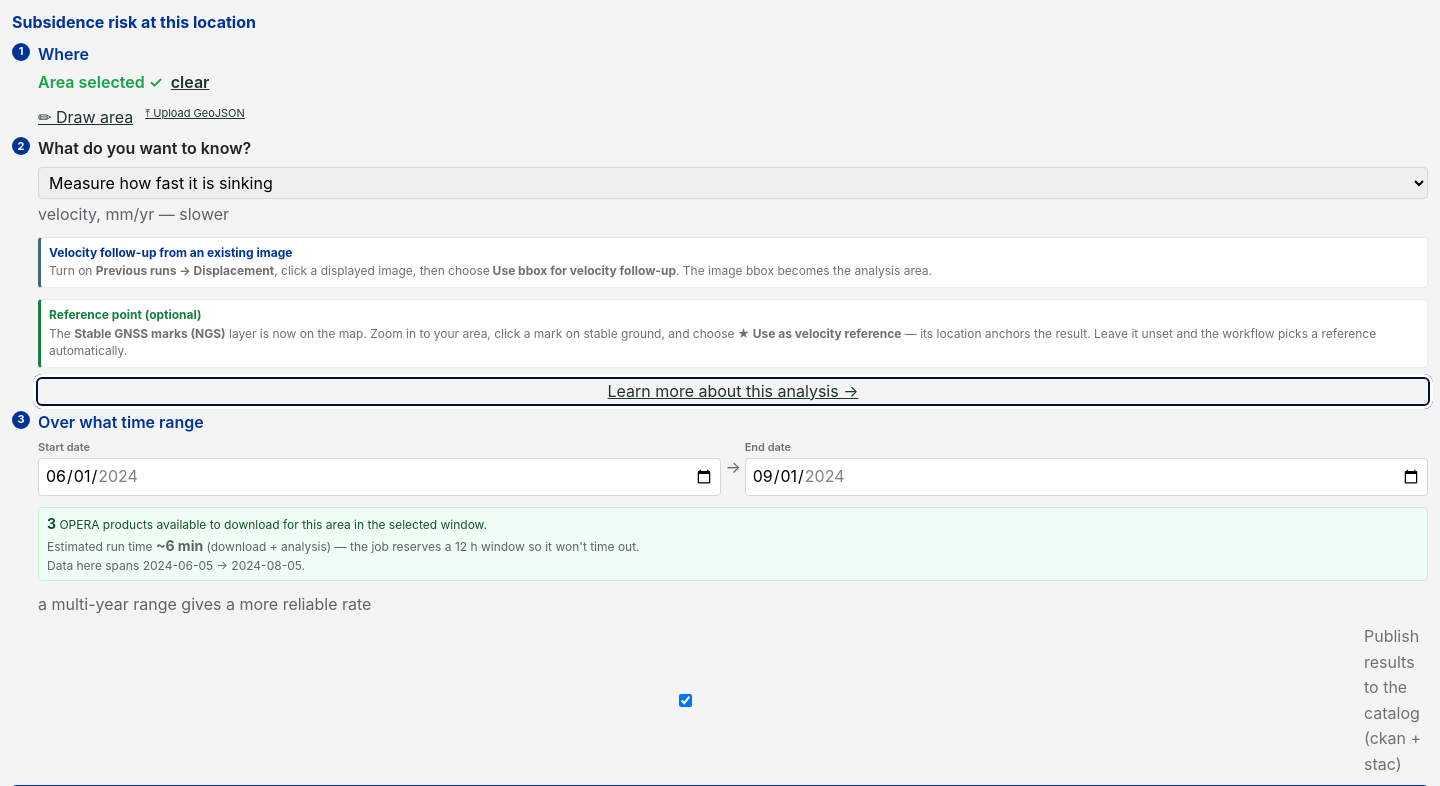
dynamo mode › hides Earthdata and allocation fields; shows reference only for velocity (WERC)
Expected: the text "Reference point (optional)" is shown, [49,307,202,322]
Step 1. Select "See surface displacement" in the dropdown labelled "What do you want to know?" → (733, 183), box [38,167,1428,199]
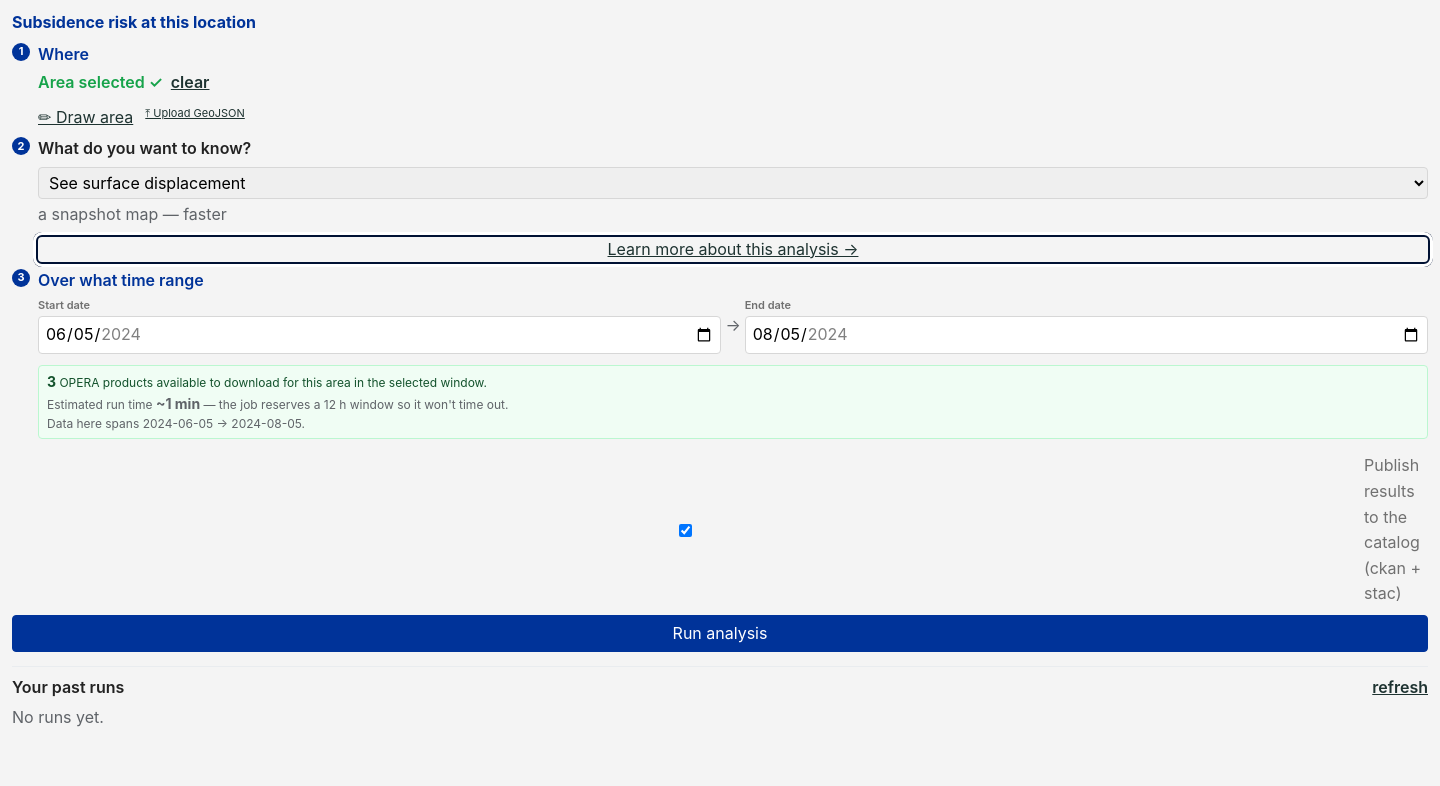
Result: the text "Reference point" is gone
